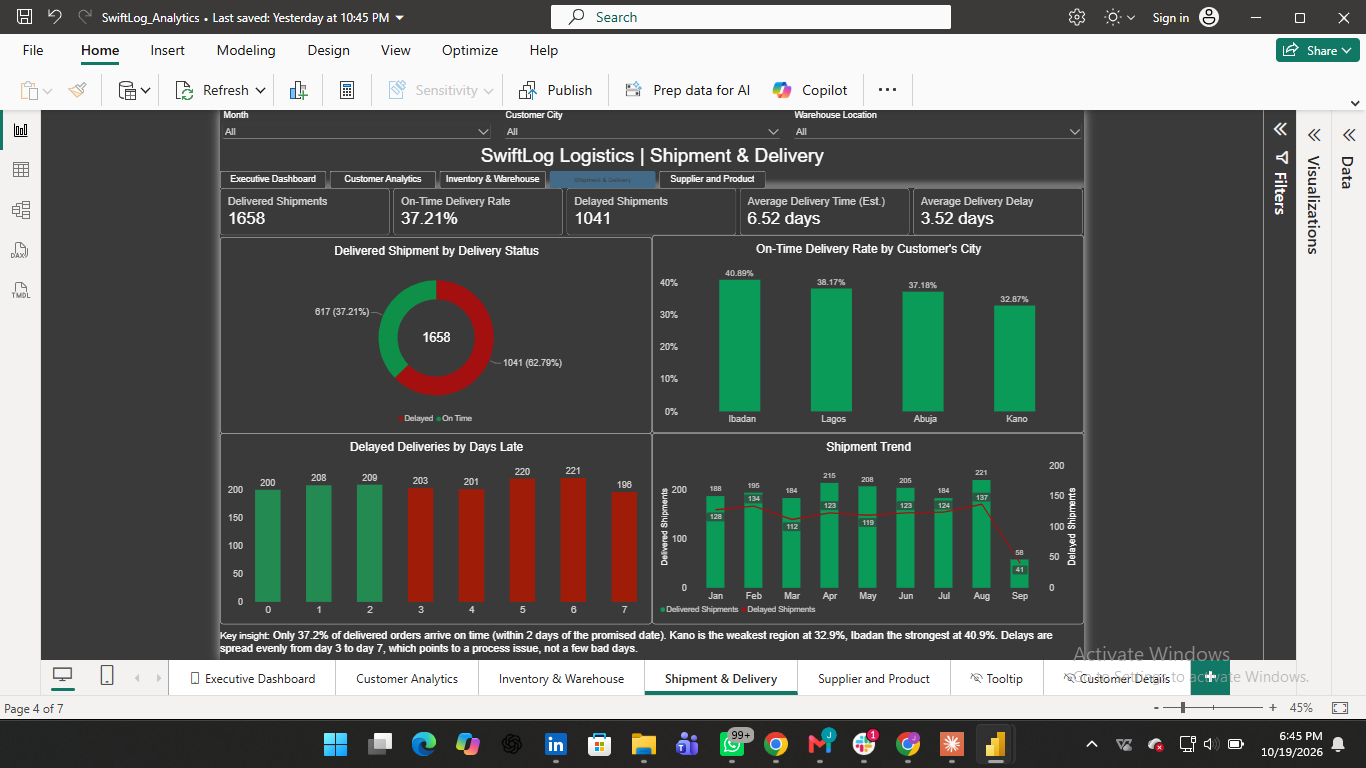

Layout of this report page (visuals, bound fields, positions):
{"tool":"powerbi","page":{"name":"Shipment & Delivery","canvas":[1920,1222],"ordinal":3},"visuals":[{"type":"cardVisual","fields":{"Data":["_Measures.Delivered Shipments","_Measures.On-Time Delivery Rate","_Measures.Delayed Shipments","_Measures.Average Delivery Time (Est.)","_Measures.Average Delivery Delay"]},"box":[0,173.5,1921,105.1],"z":0},{"type":"donutChart","title":"Delivered Shipment by Delivery Status","fields":{"Y":["_Measures.Delivered Shipments"],"Category":["SwiftLog_Delivery_Performance.Delivery Status"]},"box":[0,281.1,960.5,437.5],"z":1000},{"type":"clusteredColumnChart","title":"On-Time Delivery Rate by Customer''s City","fields":{"Category":["SwiftLog_Customers.City"],"Y":["_Measures.On-Time Delivery Rate"]},"box":[960.5,278.6,960.5,439.9],"z":2000},{"type":"lineClusteredColumnComboChart","title":"Shipment Trend","fields":{"Category":["Date.Month"],"Y":["_Measures.Delivered Shipments"],"Y2":["_Measures.Delayed Shipments"]},"box":[960.5,718.5,960.5,425.3],"z":3000},{"type":"clusteredColumnChart","title":"Delayed Deliveries by  Days Late","fields":{"Category":["SwiftLog_Delivery_Performance.DelayDays"],"Y":["_Measures.Delivered Shipments"]},"box":[0,718.5,960.5,425.3],"z":4000},{"type":"slicer","fields":{"Values":["Date.Month"]},"box":[0,0,607,75.6],"z":5000},{"type":"slicer","fields":{"Values":["SwiftLog_Customers.City"]},"box":[626.4,0,624.2,75.6],"z":6000},{"type":"slicer","fields":{"Values":["SwiftLog_Warehouses.Location"]},"box":[1267.9,0,652.3,75.6],"z":7000},{"type":"textbox","box":[0,75.8,1921,58.7],"z":8000},{"type":"textbox","box":[0,1153.6,1921,68.4],"z":9000},{"type":"pageNavigator","box":[0,134.4,1214.7,39.1],"z":10000}]}

Visuals, with their boxes on the page's 1920x1222 design canvas (x1, y1, x2, y2). These are canvas units, not pixel positions in the 1366x768 screenshot, which may show the page scaled, cropped or inside an application window:
cardVisual - _Measures.Delivered Shipments x _Measures.On-Time Delivery Rate: [0, 174, 1921, 279]
"Delivered Shipment by Delivery Status" donutChart: [0, 281, 960, 719]
"On-Time Delivery Rate by Customer''s City" clusteredColumnChart: [960, 279, 1921, 718]
"Shipment Trend" lineClusteredColumnComboChart: [960, 718, 1921, 1144]
"Delayed Deliveries by  Days Late" clusteredColumnChart: [0, 718, 960, 1144]
slicer - Date.Month: [0, 0, 607, 76]
slicer - SwiftLog_Customers.City: [626, 0, 1251, 76]
slicer - SwiftLog_Warehouses.Location: [1268, 0, 1920, 76]
textbox: [0, 76, 1921, 134]
textbox: [0, 1154, 1921, 1222]
pageNavigator: [0, 134, 1215, 174]
